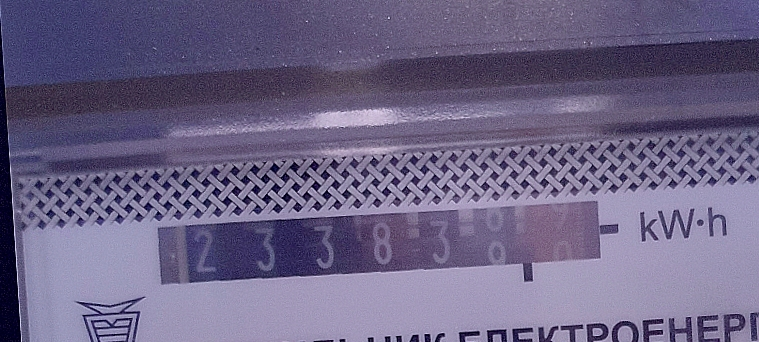0: (549, 235, 576, 262)
2: (189, 225, 219, 275)
3: (250, 223, 280, 274), (426, 215, 454, 265), (311, 221, 338, 272)
8: (368, 218, 395, 265), (480, 205, 509, 233)
9: (482, 236, 510, 266), (547, 200, 573, 230)
screen: (144, 185, 620, 308)
